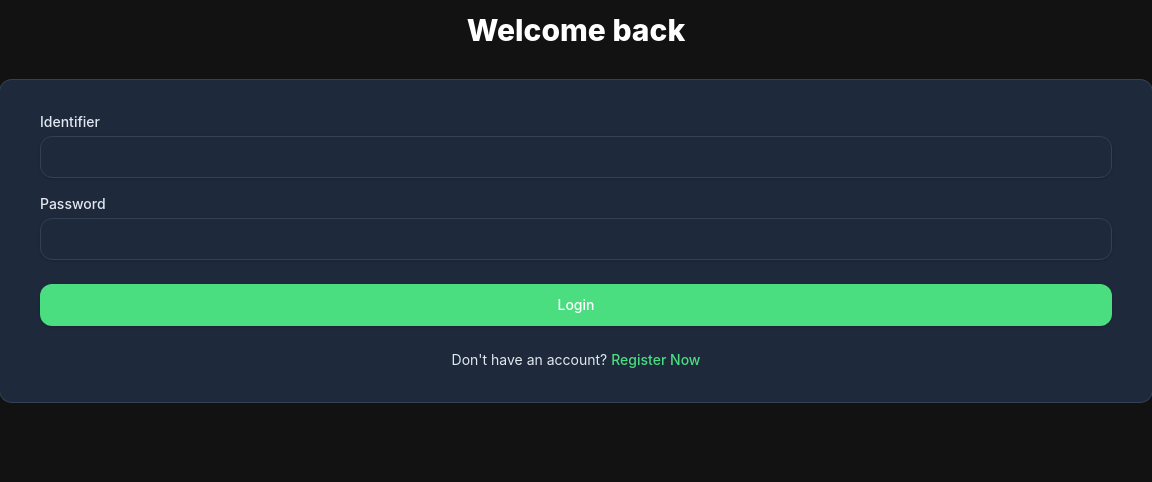
Test case: Login Component › Backend Error Handling › should handle 500 Internal Server Error gracefully
Type "testUser" into the field labelled "Identifier" at (576, 157), box [40,136,1112,178]
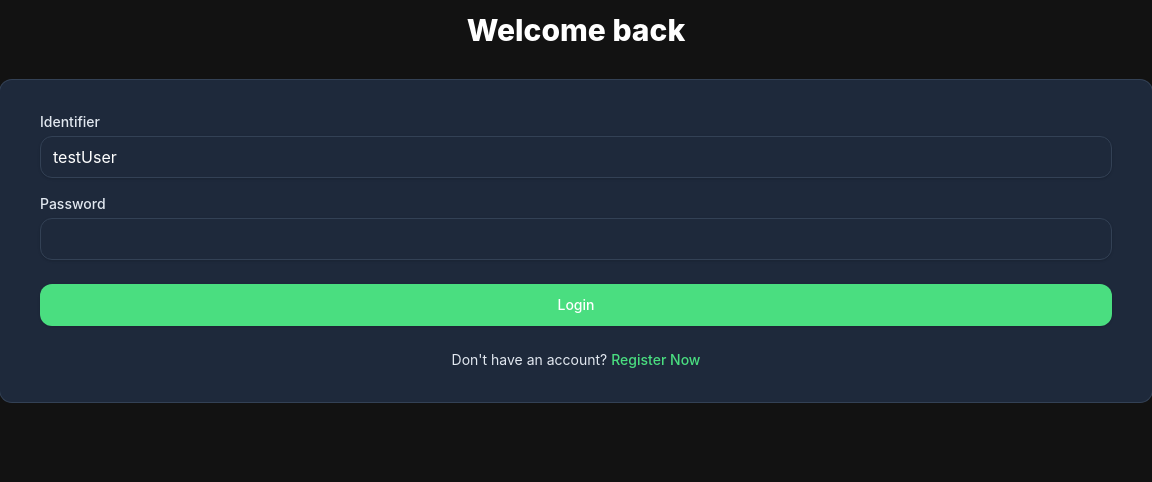
Type "password" into the password field labelled "Password" at (576, 239), box [40,218,1112,260]
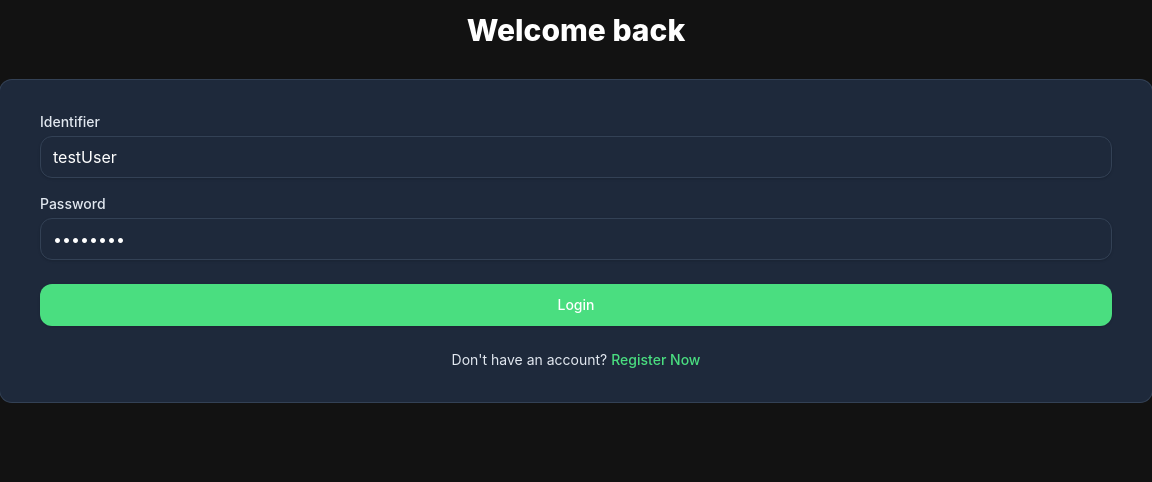
Click the button "Login" at (576, 305), box [40,284,1112,326]
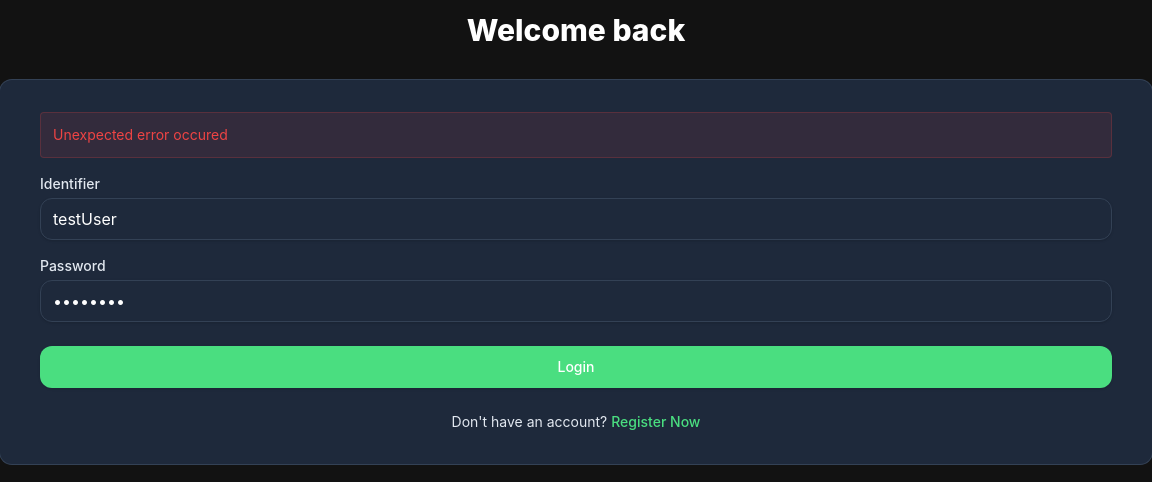
expect the message "Unexpected error occured" is shown: met, box [40,112,1112,158]
expect the message reads "Unexpected error occured": met, box [53,126,228,143]
